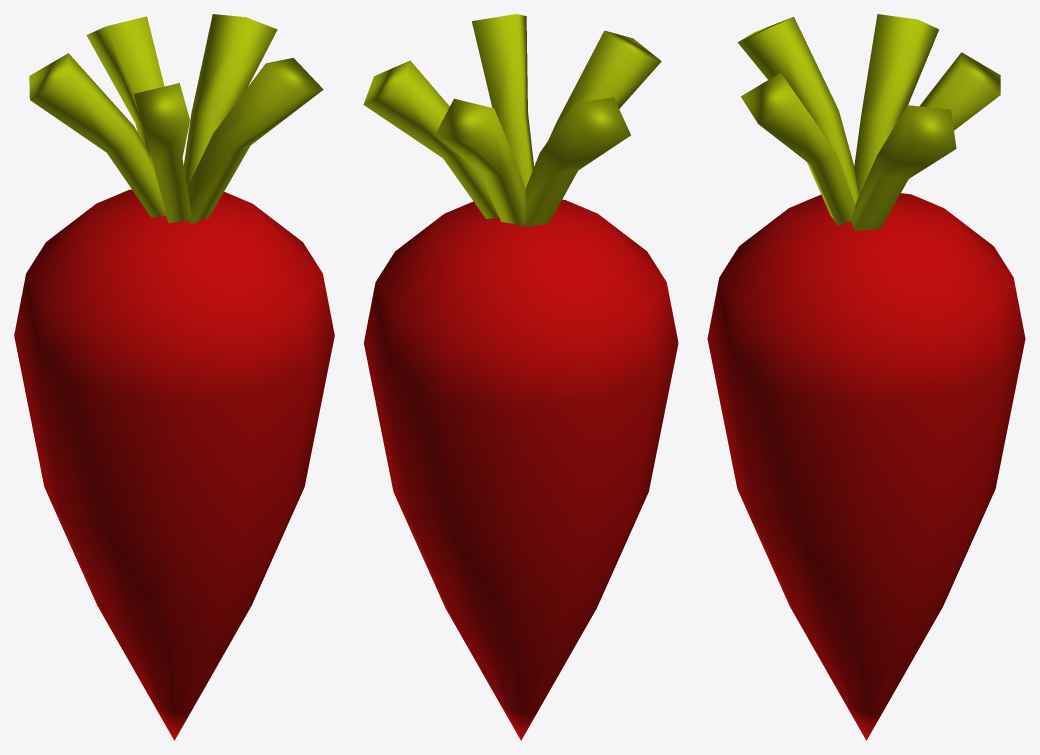
The model's file is Carrot.fbx.
3 views of the same model, side by side, from view 1: azimuth 30°, elevation 25°; view 2: azimuth 150°, elevation 25°; view 3: azimuth 270°, elevation 25° (orthographic).
Parts seen in each view (by area): view 1: pCube6; view 2: pCube6; view 3: pCube6.
Part boxes in pixels (x1,y1,x2,y2): pCube6: [14, 14, 334, 740]; pCube6: [363, 14, 678, 740]; pCube6: [707, 14, 1025, 740].
Size of the model in its own units: 36.94 by 89.07 by 36.94.
